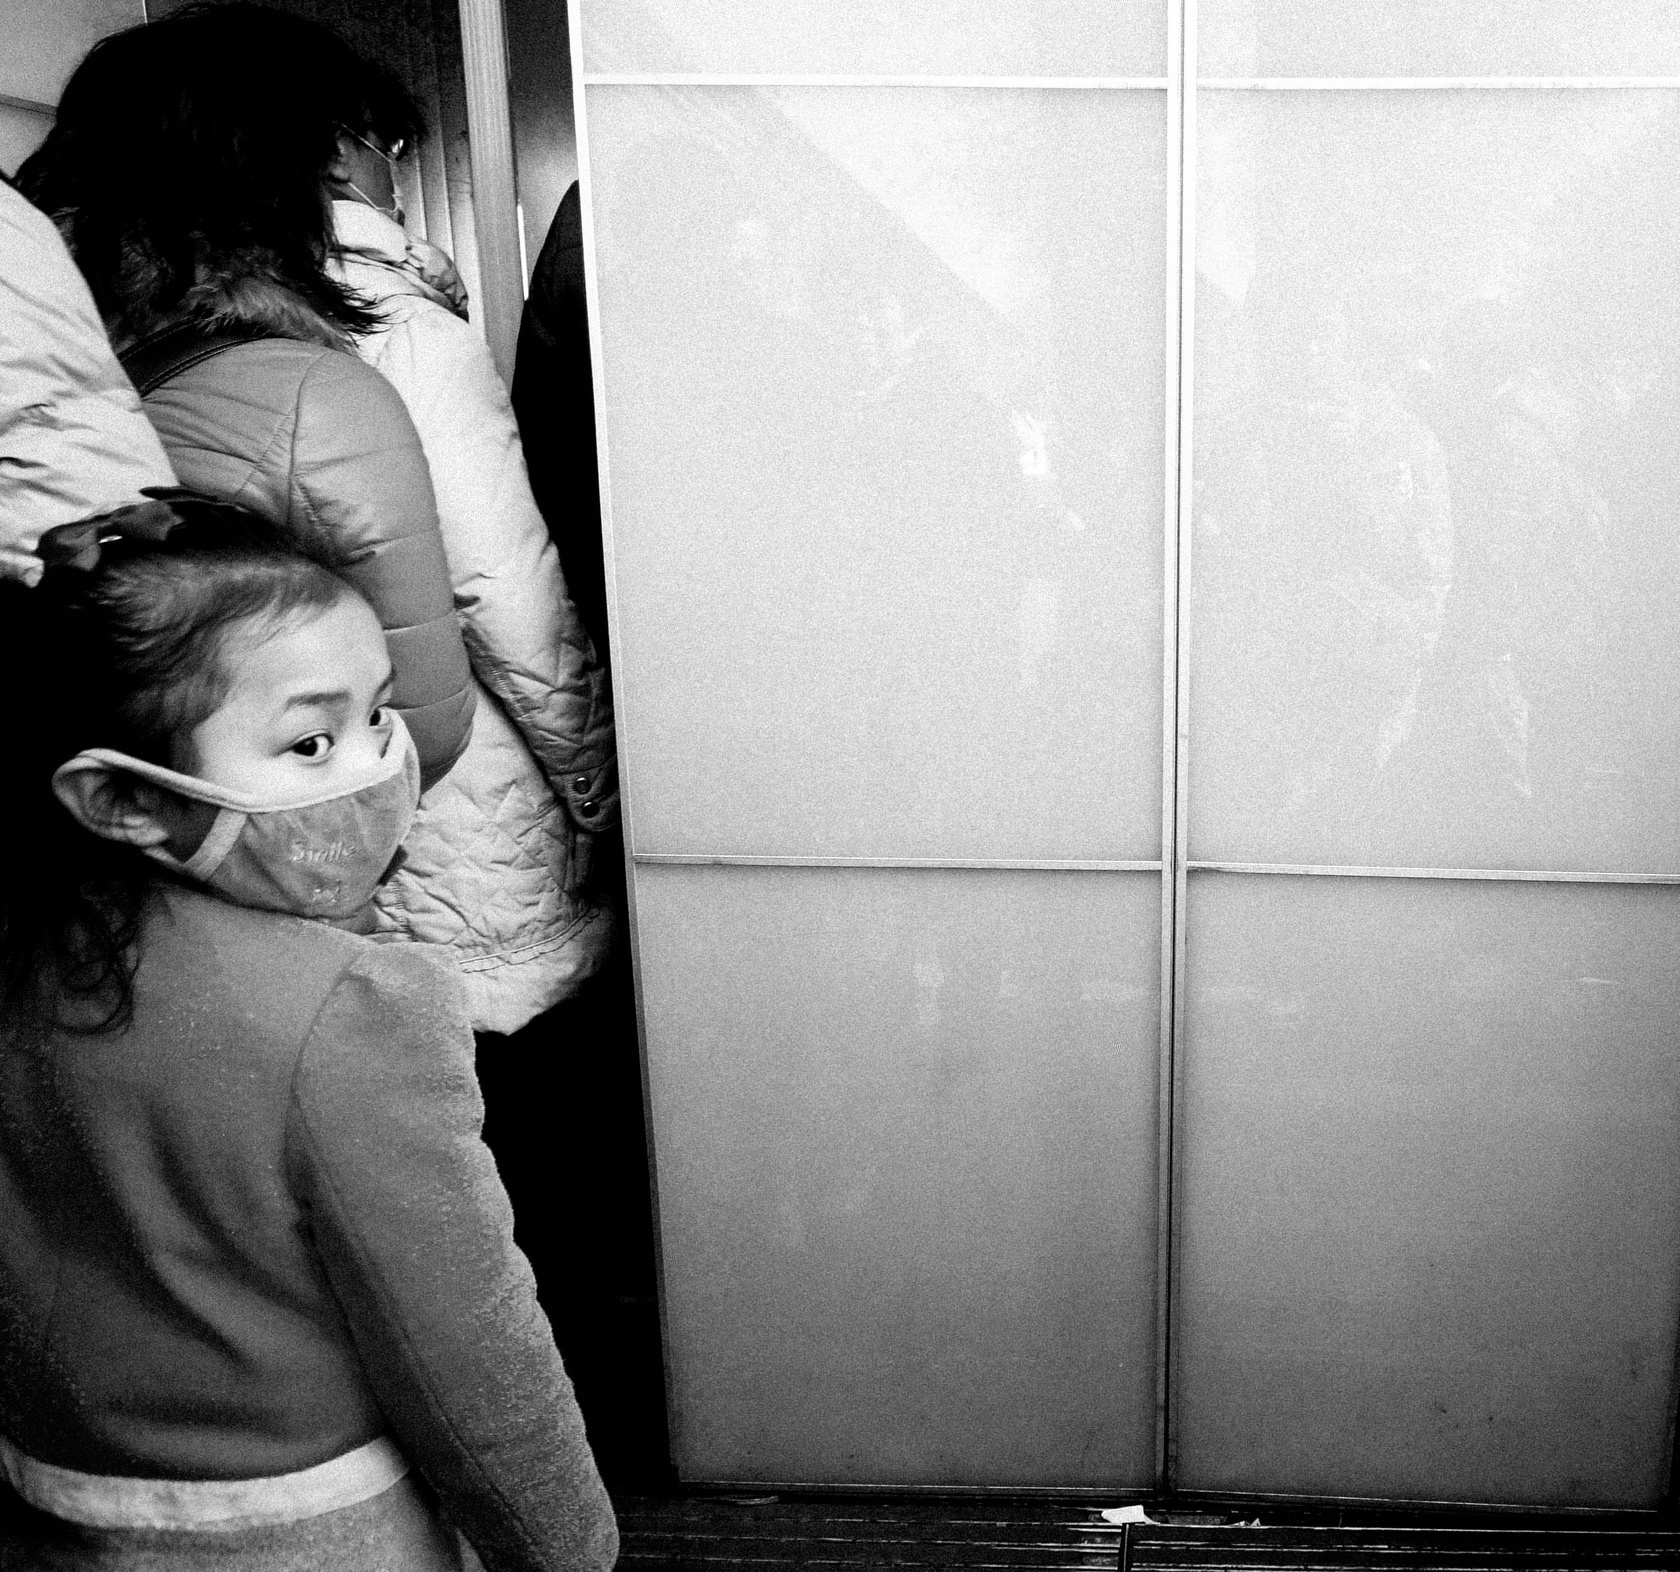face_mask: (191, 608, 422, 909)
